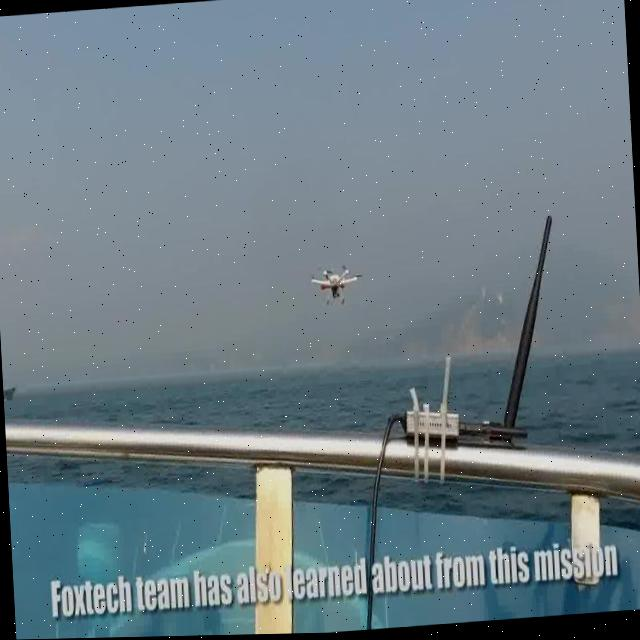drone: (306, 262, 362, 312)
